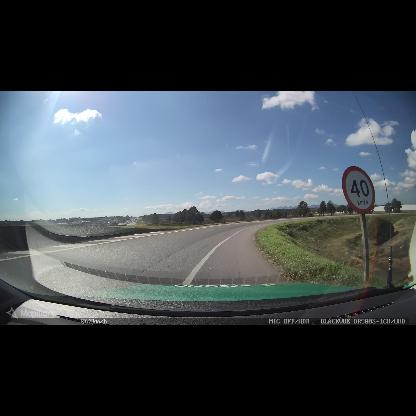R-19: (342, 166, 375, 214)
